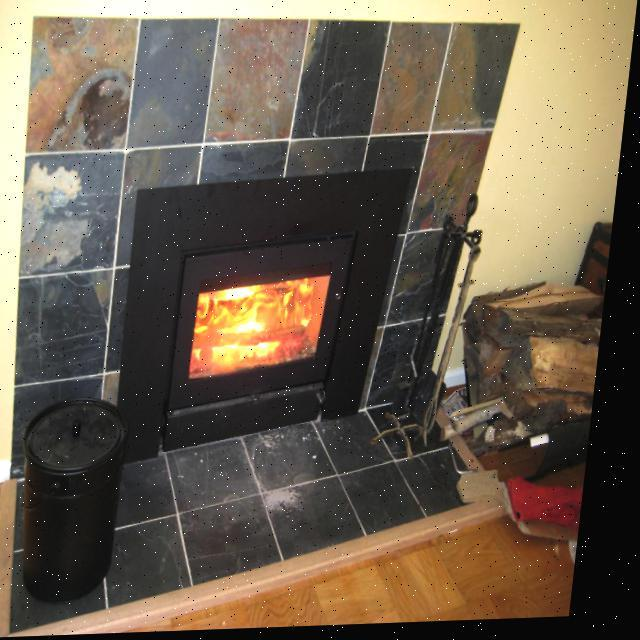Fire: (203, 288, 323, 365)
